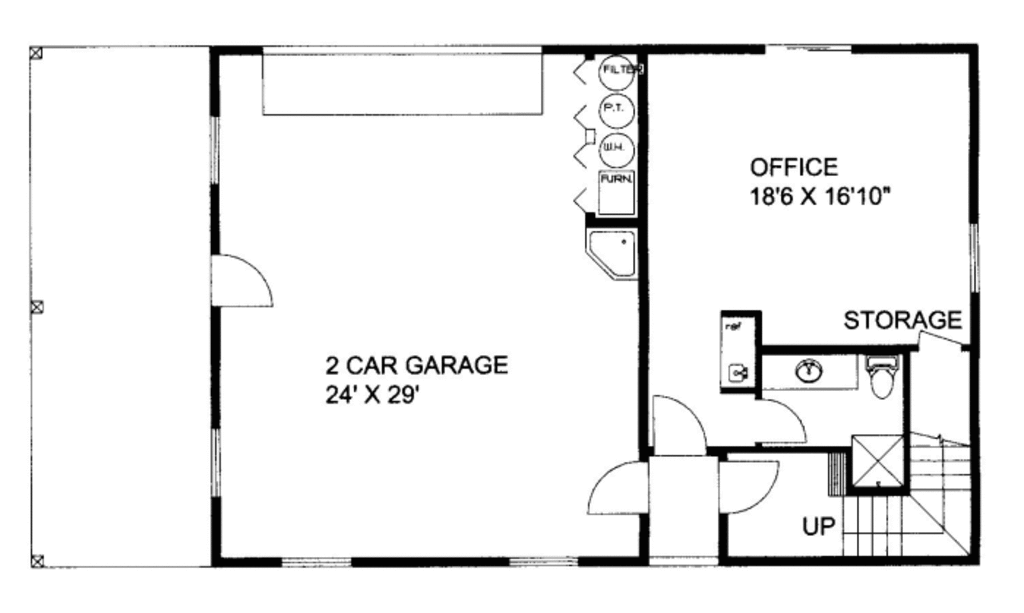door: (204, 251, 281, 318), (715, 457, 785, 514), (582, 459, 648, 517), (652, 395, 707, 460), (754, 392, 813, 448)
large_sink: (855, 352, 901, 403)
small_sink: (772, 352, 845, 394)
stairs: (826, 419, 974, 561)
window: (205, 114, 231, 187), (281, 552, 363, 572), (209, 428, 225, 499), (506, 554, 581, 569), (968, 221, 977, 292)
